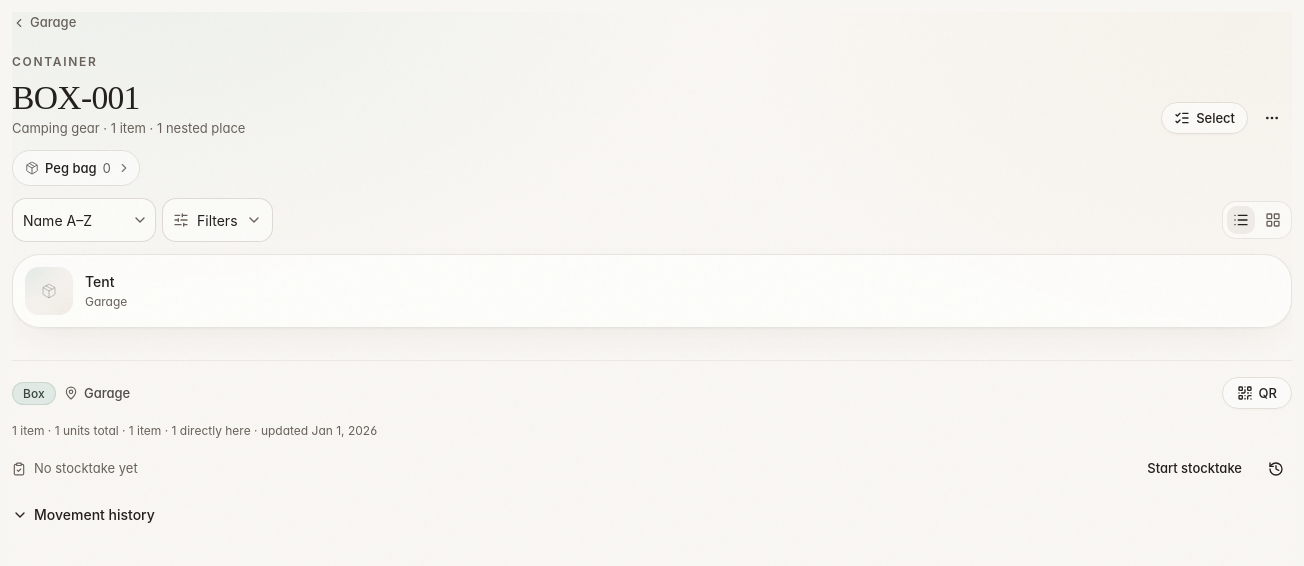
Scenario: ContainerDetailPage › shows the contents with one tools row and no checkboxes until Select
Expected: the heading "BOX-001" is shown, [12,79,140,116]
Expected: the text with test id "container-count" reads "Camping gear · 1 item · 1 nested place", [12,120,246,136]
Click the button with aria-label "Select items".
click(1205, 118)  # box [1161,102,1248,134]
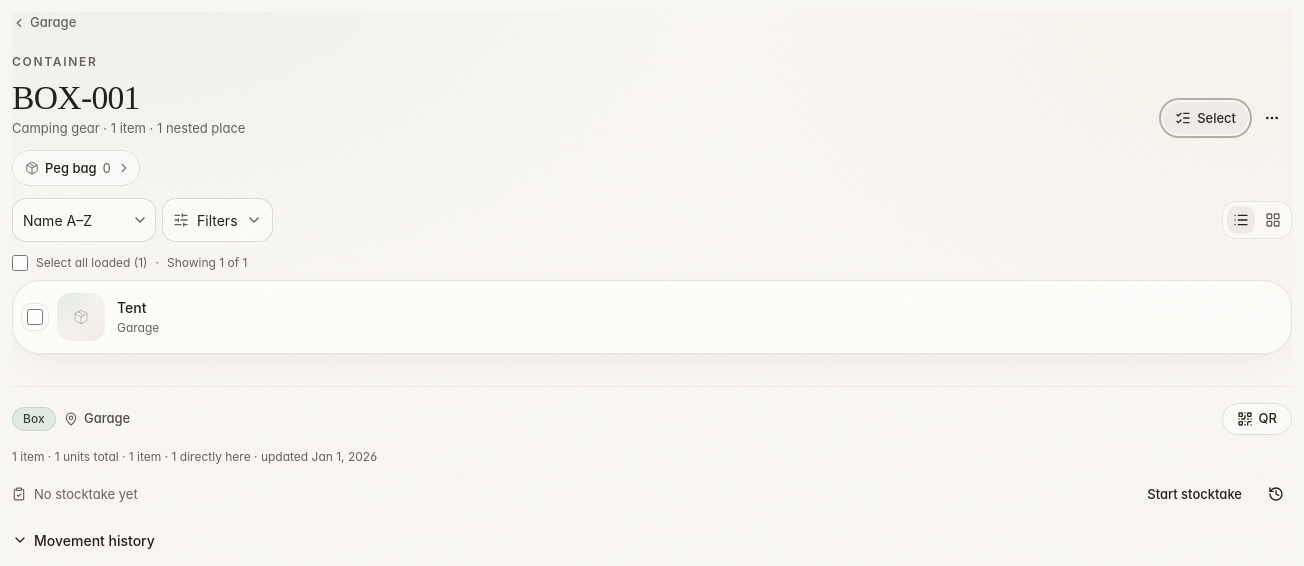
Now the checkbox named "Select Tent" is shown, box [27,309,43,325]
Now the checkbox named "Select all loaded items" is shown, box [12,255,28,271]
